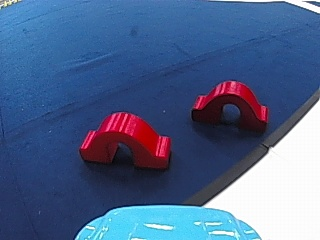bridge: (75, 106, 175, 169), (189, 76, 273, 132)
